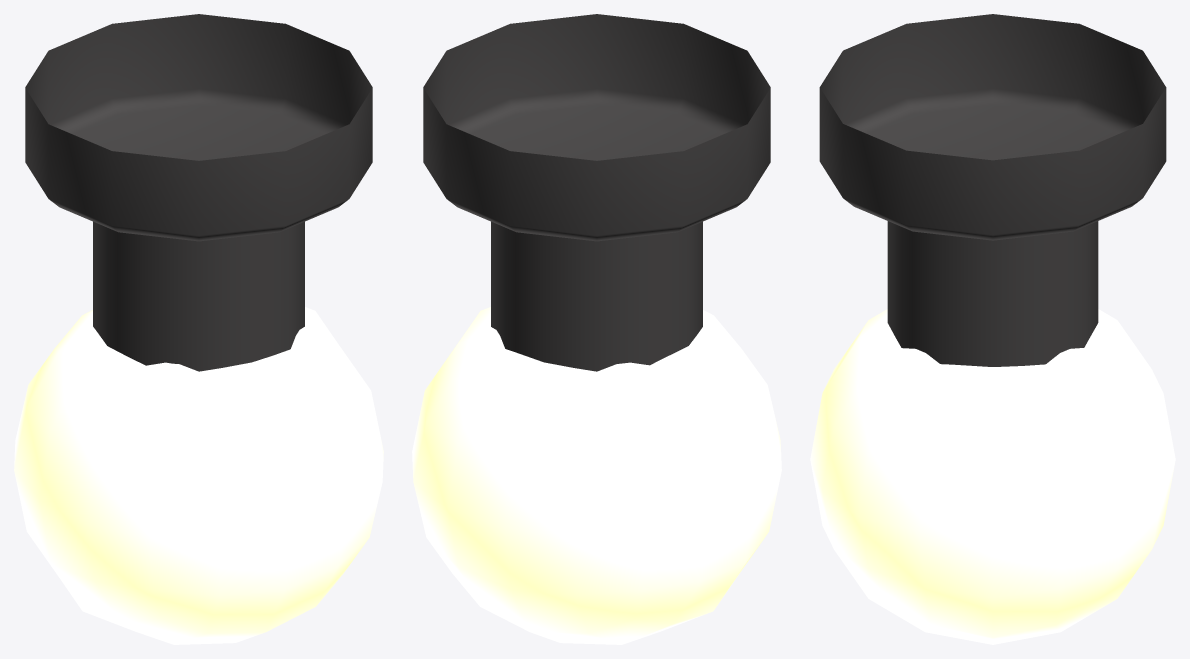
Rendered from Light_1.glb.
3 renders of one model, left to right at view 1: azimuth 30°, elevation 25°; view 2: azimuth 150°, elevation 25°; view 3: azimuth 270°, elevation 25°, orthographic.
Visible parts, largest first — view 1: Light_1; view 2: Light_1; view 3: Light_1.
Part boxes in pixels (left/top/right/bottom): Light_1: left=14, top=14, right=383, bottom=644; Light_1: left=412, top=14, right=781, bottom=644; Light_1: left=810, top=14, right=1175, bottom=644.
Size of the model in its own units: 0.2284 by 0.3709 by 0.2284.
2 materials, 1 textured.
